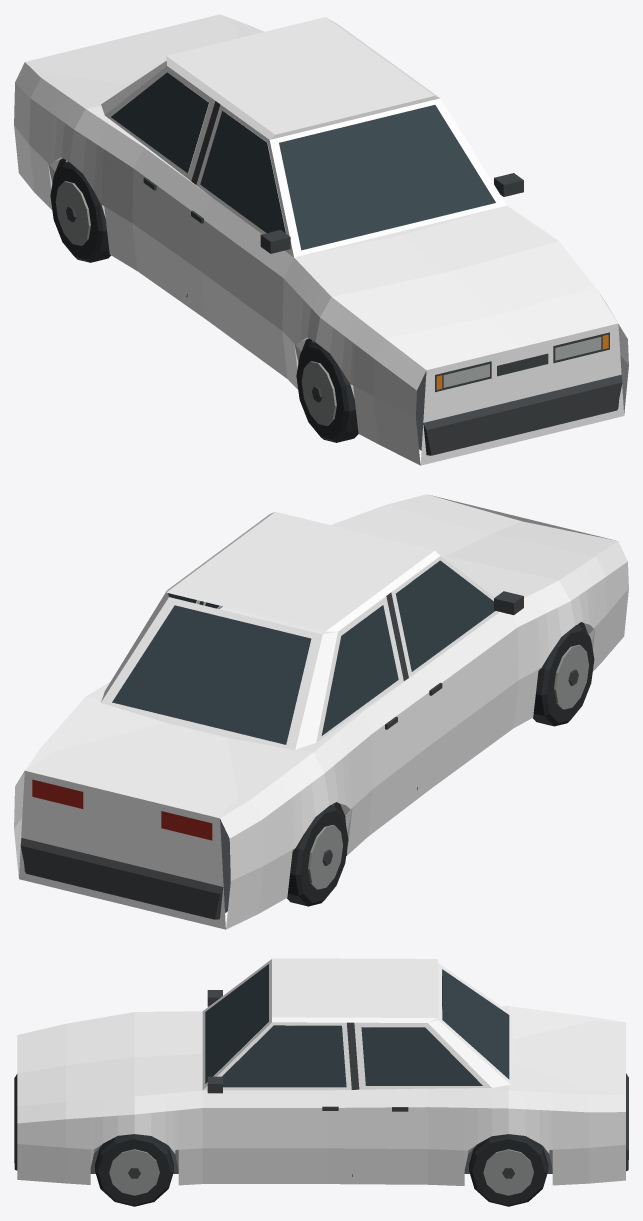
Rendered from saulieu_hirondelle_ii.glb.
3 views of the same model, one above another, from view 1: azimuth 30°, elevation 25°; view 2: azimuth 150°, elevation 25°; view 3: azimuth 270°, elevation 25° (orthographic). The views are drawn at different scales.
Visible parts, largest first — view 1: saulieu_hirondelle_ii; view 2: saulieu_hirondelle_ii; view 3: saulieu_hirondelle_ii.
Boxes of the visible parts, box(x1,y1,x2,y2) form: saulieu_hirondelle_ii: box(14, 14, 628, 465); saulieu_hirondelle_ii: box(14, 494, 628, 929); saulieu_hirondelle_ii: box(14, 958, 628, 1206).
Size of the model in its own units: 1.81 by 1.52 by 4.88.
8 materials, 1 textured.
